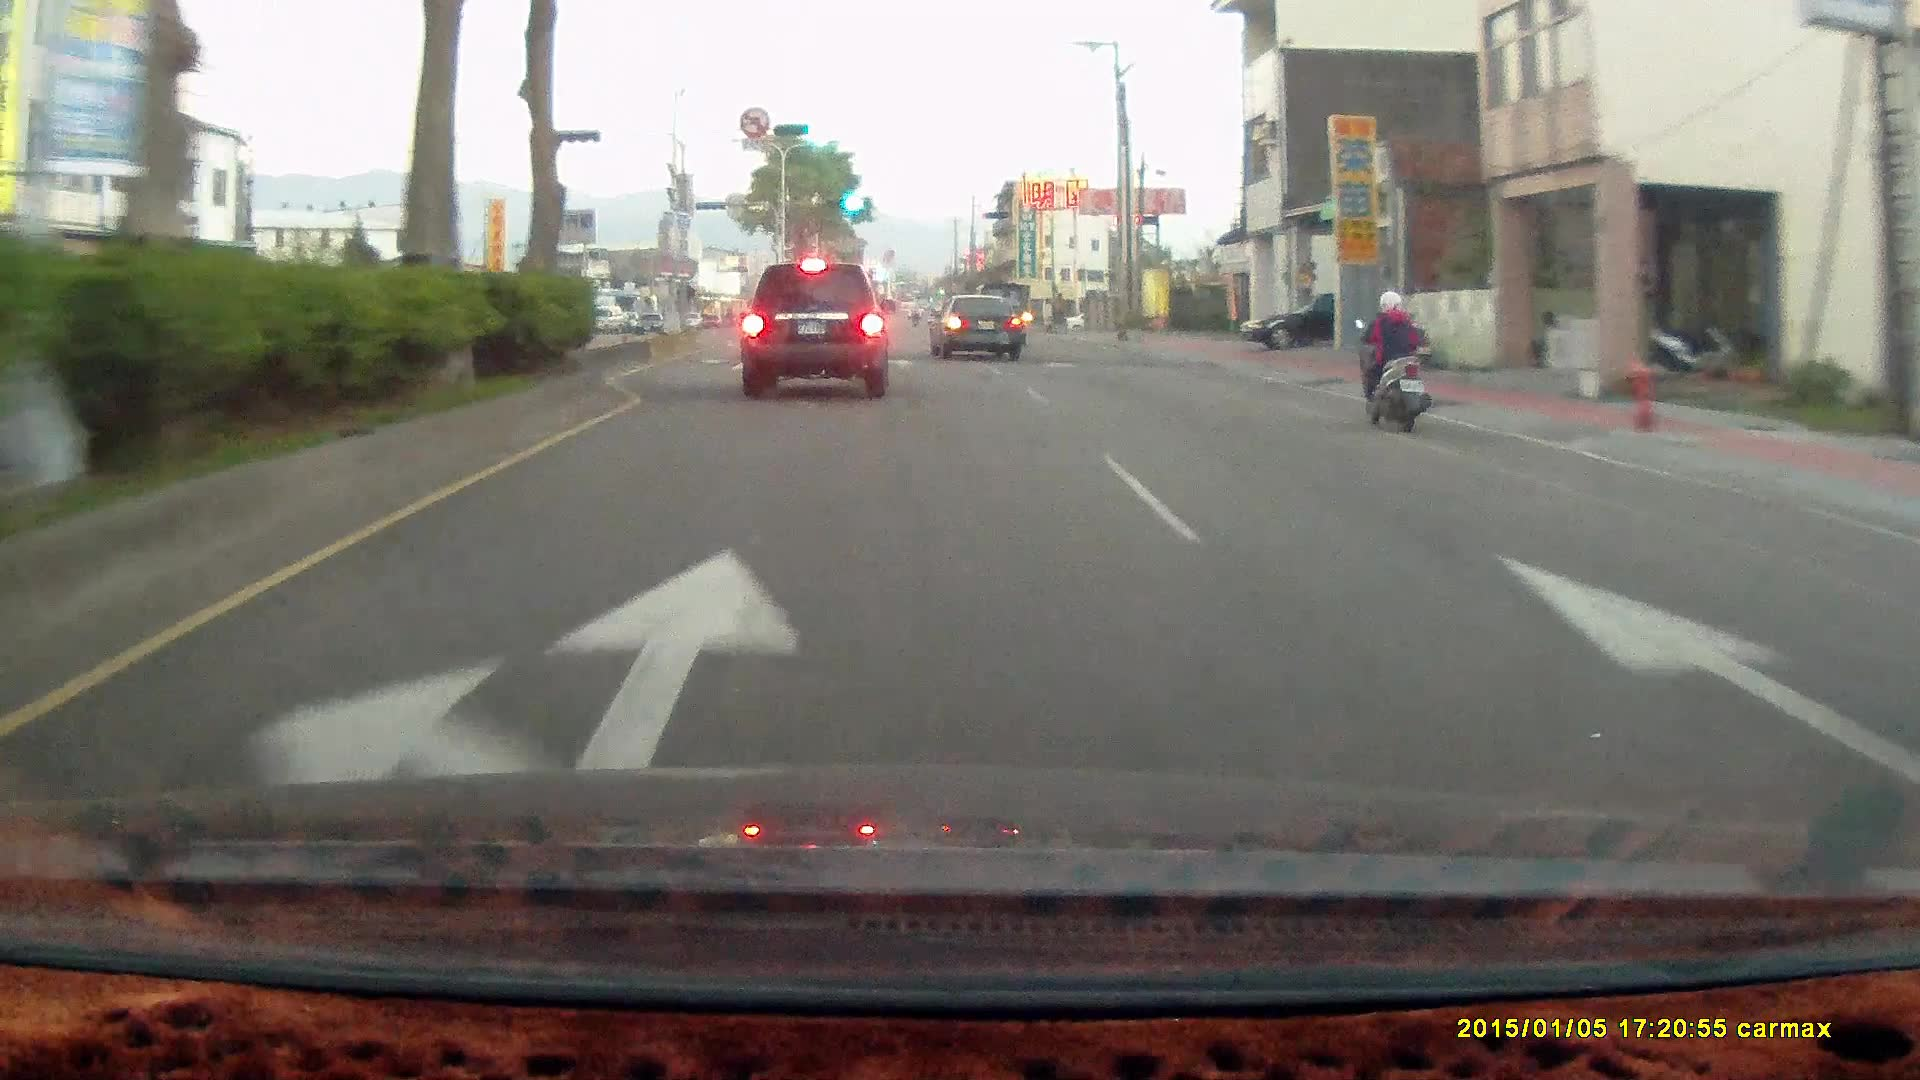rider: (1345, 276, 1446, 444), (1353, 288, 1431, 435)
vehicle: (732, 261, 889, 405), (741, 263, 895, 397), (1241, 289, 1419, 347), (929, 293, 1021, 359), (1241, 291, 1342, 351), (933, 295, 1025, 361), (587, 303, 624, 333)
